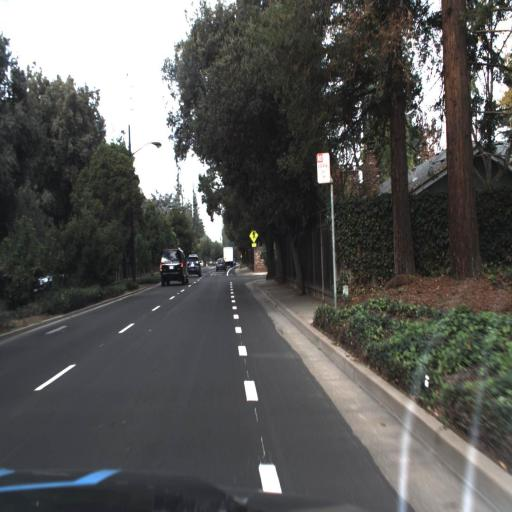car: (158, 247, 188, 285), (186, 252, 201, 282), (221, 245, 234, 265), (214, 257, 227, 272)
truck: (220, 242, 236, 273)
